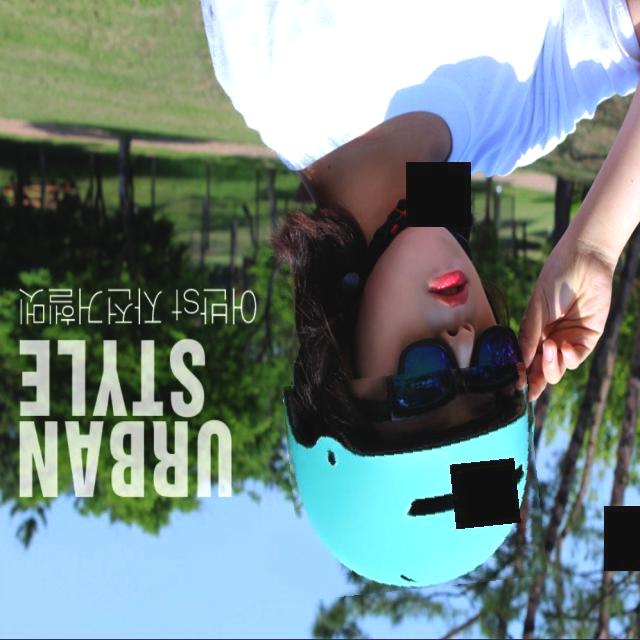helmet: (287, 368, 542, 595)
